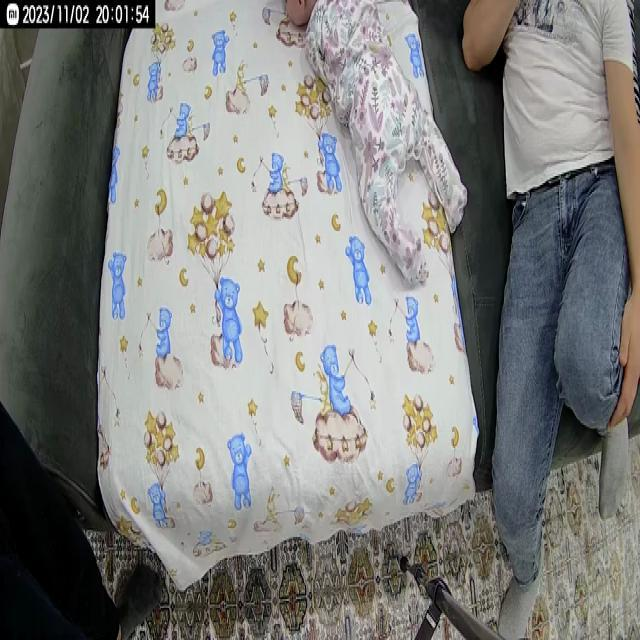baby: (284, 1, 470, 294)
